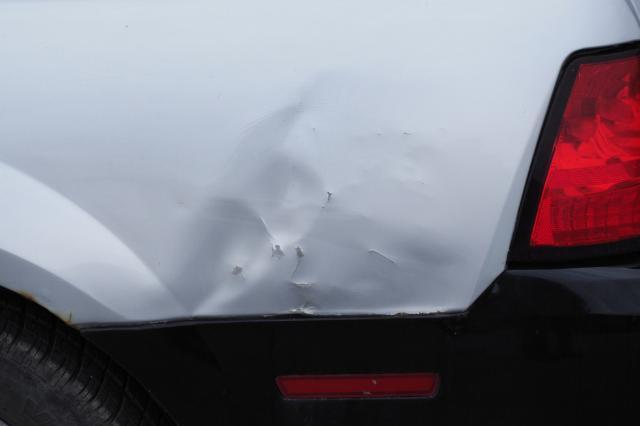Fender: (74, 53, 491, 318)
